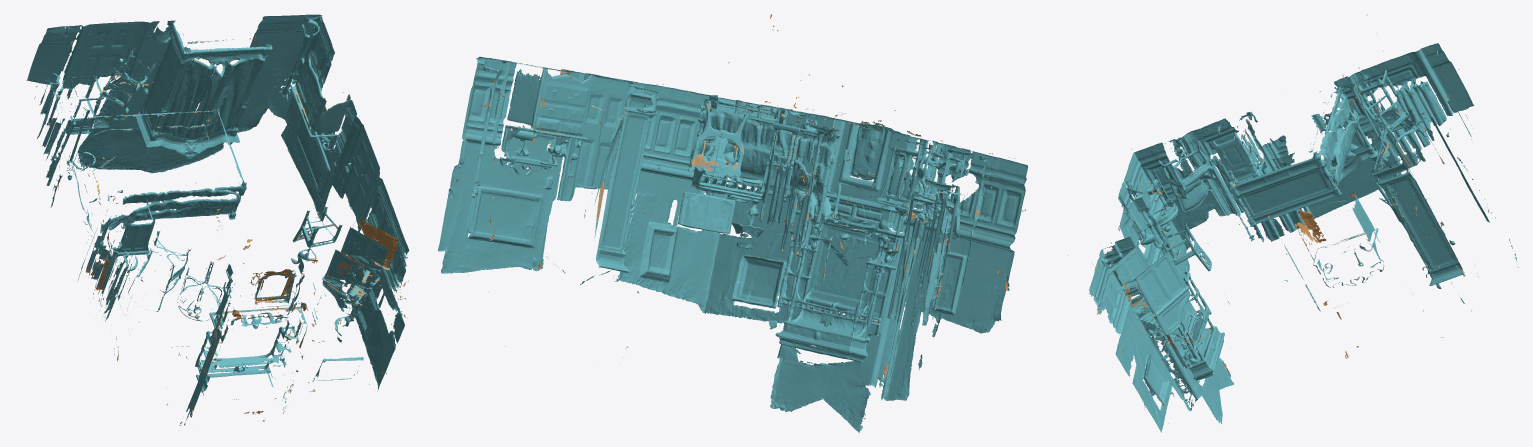
File: PRIOR-room-preview-color-source.glb
3 renders of one model, left to right at view 1: azimuth 30°, elevation 25°; view 2: azimuth 150°, elevation 25°; view 3: azimuth 270°, elevation 25°, orthographic. The views are drawn at different scales.
Visible parts, largest first — view 1: world; view 2: world; view 3: world.
Boxes of the visible parts, bbox=[...] form: world: bbox=[26, 14, 409, 425]; world: bbox=[438, 14, 1027, 432]; world: bbox=[1068, 15, 1518, 432].
Bounding box in the file's own units: 5.87 × 6.01 × 7.28.
